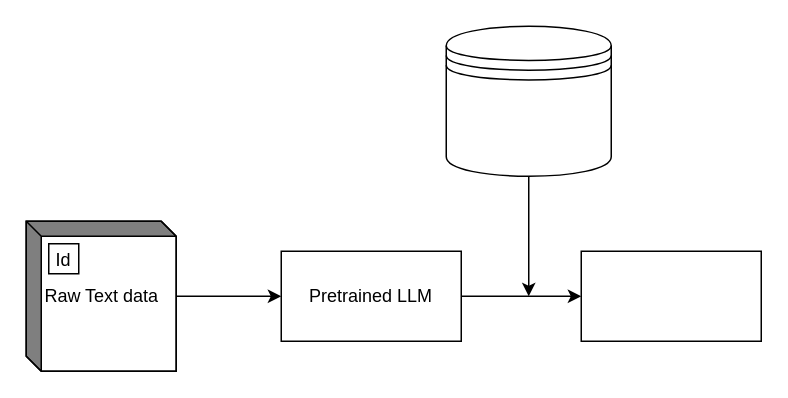
Image size: 788x398. Some labels were removed from this diagram. Here are the shapes that lost their labels. From the top down, the centre of each, then its label:
At [528,100]: "Custom Knowledgebase".
At [670,295]: "FinetunedLLM".
